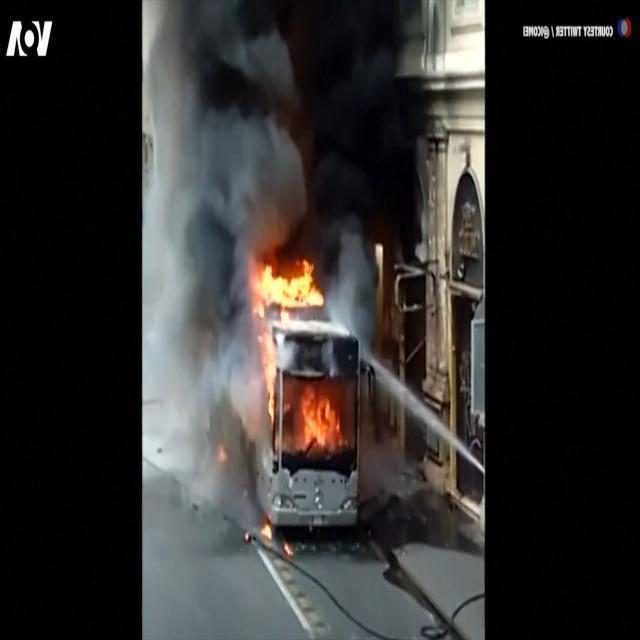fire: (250, 248, 348, 460)
